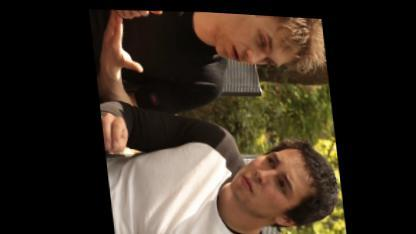knife: (124, 7, 194, 22)
